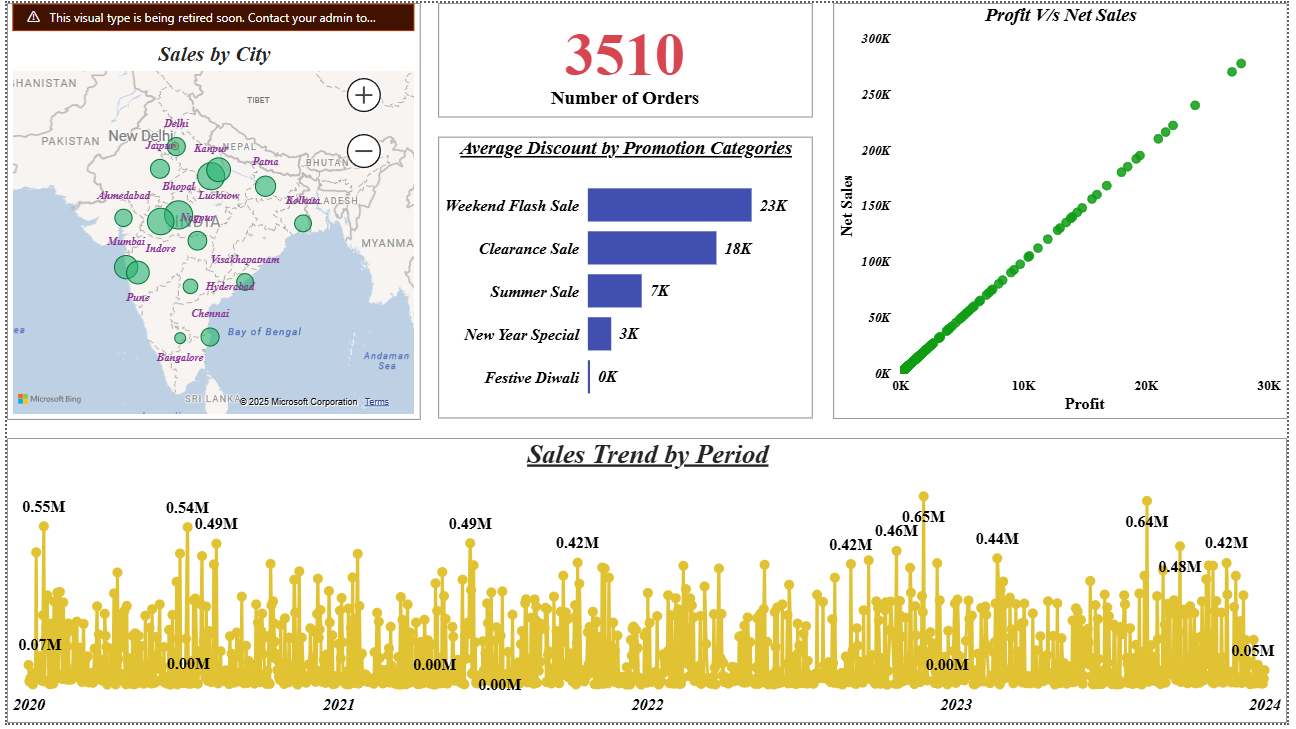

What the dashboard file says about the page in this screenshot:
{"tool":"powerbi","page":{"name":"Overview","canvas":[1280,720],"ordinal":0},"visuals":[{"type":"lineChart","title":"Sales Trend by Period","fields":{"Category":["Fact Table.Date (dd/mm/yyyy).Variation.Date Hierarchy.Year"],"Y":["Sum(Fact Table.Net Sales)"]},"box":[0,435,1280,285],"z":0},{"type":"scatterChart","title":"Profit V/s Net Sales","fields":{"X":["Fact Table.Profit"],"Y":["Fact Table.Net Sales"]},"box":[826,0,454,416],"z":1000},{"type":"barChart","title":"Average Discount by Promotion Categories","fields":{"Y":["Avg(Fact Table.Discount Value)"],"Category":["Dim Promotion.Promotion Name"]},"box":[431.4,134.3,374.3,281.4],"z":2000},{"type":"map","title":"Sales by City","fields":{"Category":["Dim Customers.City"],"Size":["Sum(Fact Table.Net Sales)"]},"box":[0,0,413.3,416.7],"z":3000},{"type":"card","fields":{"Values":["Count(Fact Table.OrderID)"]},"box":[431.4,0,374.3,114.3],"z":4000}]}

Visuals, with their boxes in screenshot pixels (x1, y1, x2, y2), scaled from the page's 1280x720 canvas onto the 1296x729 screenshot:
"Sales Trend by Period" lineChart: 0:440:1295:728
"Profit V/s Net Sales" scatterChart: 836:0:1295:421
"Average Discount by Promotion Categories" barChart: 437:136:816:421
"Sales by City" map: 0:0:418:422
card - Count(Fact Table.OrderID): 437:0:816:116
